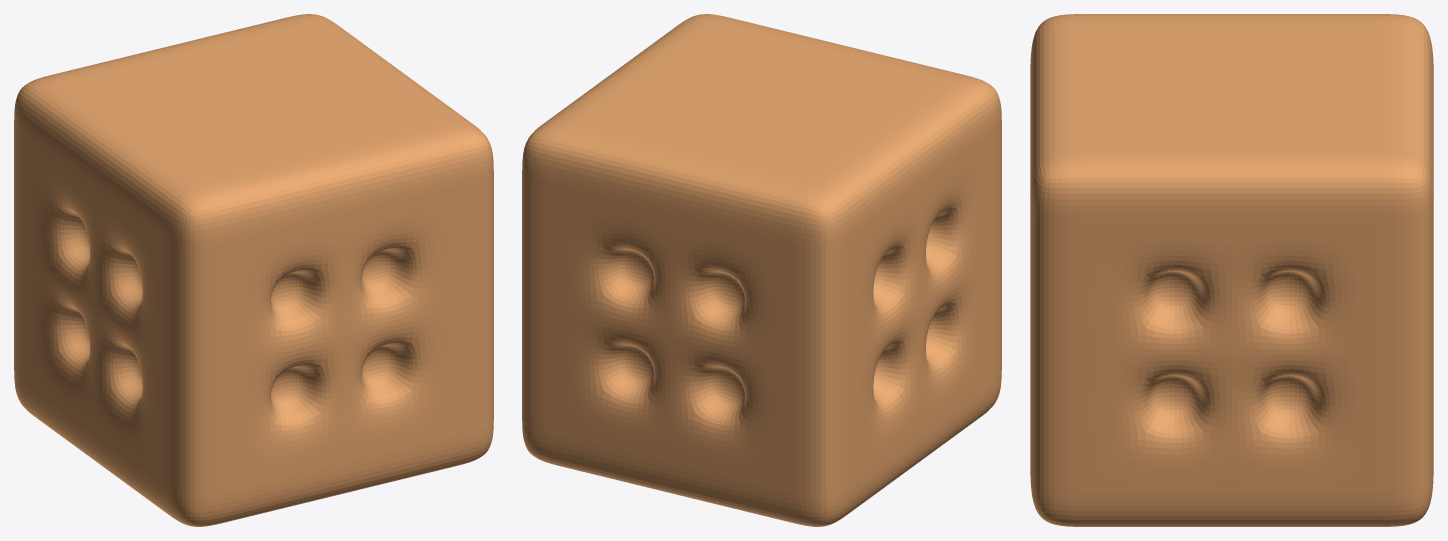
The model's file is orange_1_1_1.fbx.
3 views of the same model, side by side, from view 1: azimuth 30°, elevation 25°; view 2: azimuth 150°, elevation 25°; view 3: azimuth 270°, elevation 25° (orthographic). The views are drawn at different scales.
Parts seen in each view (by area): view 1: Cube.003; view 2: Cube.003; view 3: Cube.003.
Part boxes in pixels (x1,y1,x2,y2): Cube.003: [14, 14, 493, 526]; Cube.003: [522, 14, 1001, 526]; Cube.003: [1030, 14, 1433, 526].
Bounding box in the file's own units: 200 × 200 × 200.
